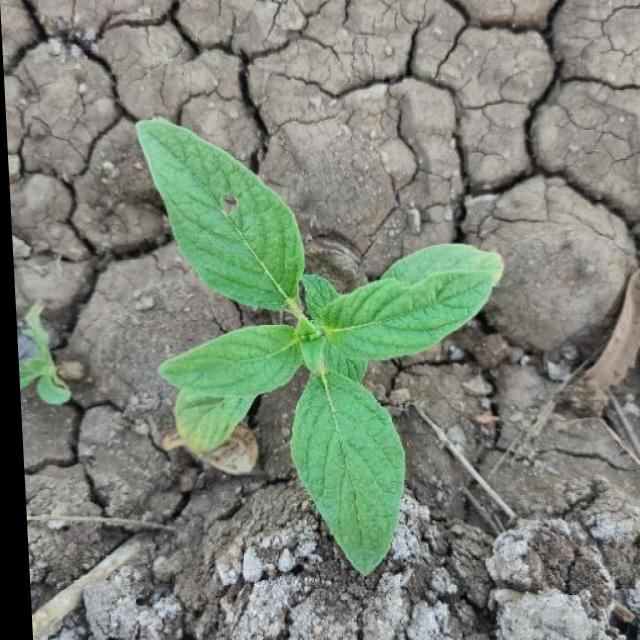crop: (126, 98, 513, 592)
